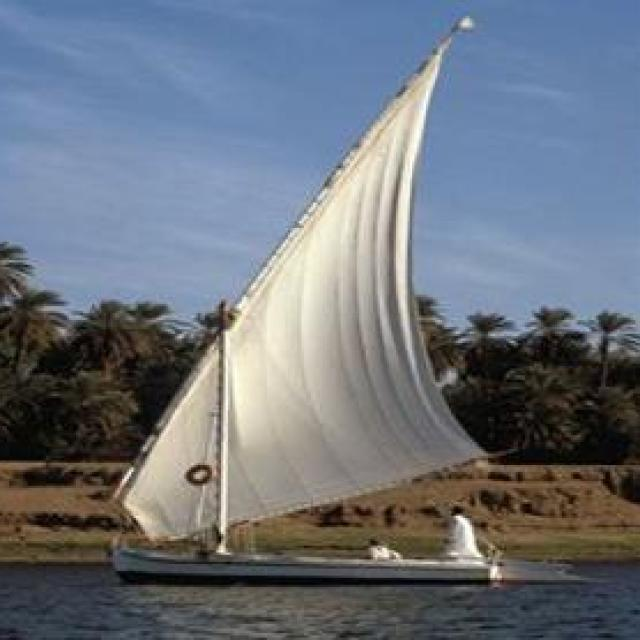sailboat: (108, 2, 541, 585)
